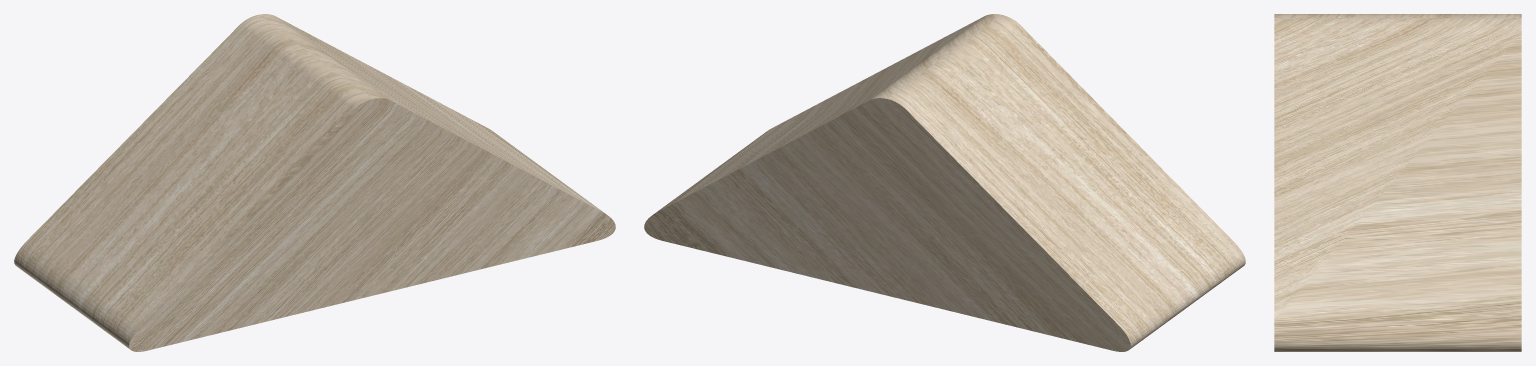
File: modeling02.glb
3 renders of one model, left to right at view 1: azimuth 30°, elevation 25°; view 2: azimuth 150°, elevation 25°; view 3: azimuth 270°, elevation 25°, orthographic. The views are drawn at different scales.
Visible parts, largest first — view 1: 큐브.001; view 2: 큐브.001; view 3: 큐브.001.
Boxes of the visible parts, x1,y1,x2,y2 form: 큐브.001: [14, 14, 615, 351]; 큐브.001: [644, 14, 1245, 351]; 큐브.001: [1274, 14, 1521, 351].
Bounding box in the file's own units: 3 × 1.16 × 1.22.
1 material, 1 textured.
